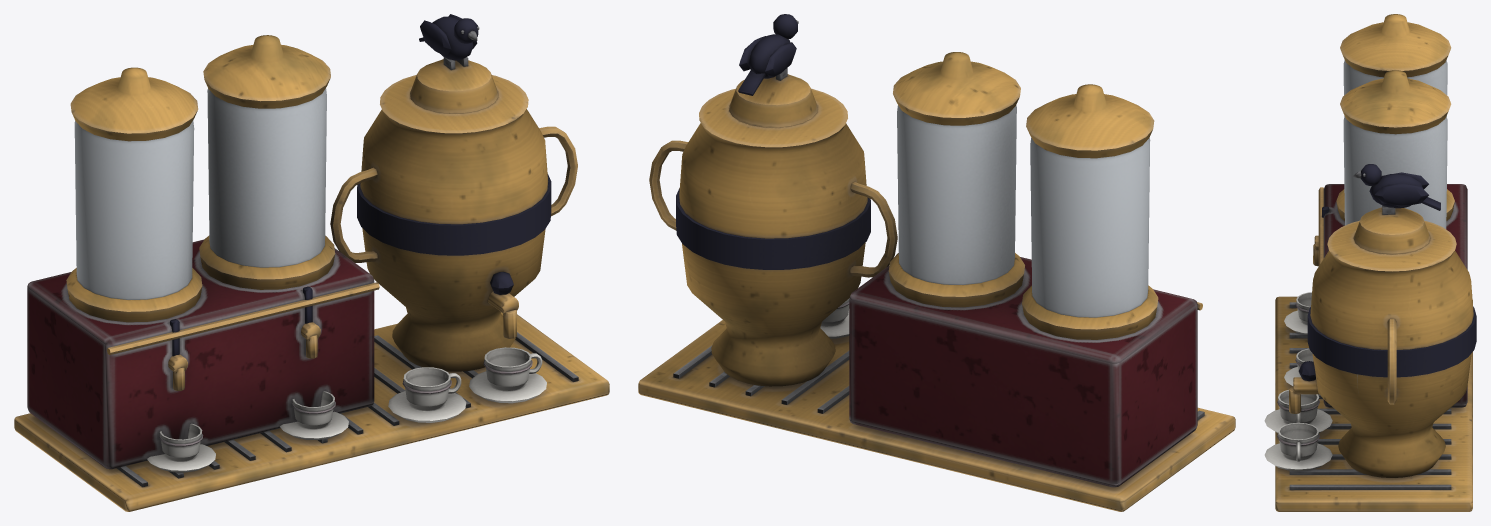
The model's file is DrinksDispenser.fbx.
3 renders of one model, left to right at view 1: azimuth 30°, elevation 25°; view 2: azimuth 150°, elevation 25°; view 3: azimuth 270°, elevation 25°, orthographic. The views are drawn at different scales.
Parts seen in each view (by area): view 1: DrinksDispenser_Main, DrinksDispenser_Glass; view 2: DrinksDispenser_Main, DrinksDispenser_Glass; view 3: DrinksDispenser_Main, DrinksDispenser_Glass.
Part boxes in pixels (x1,y1,x2,y2): DrinksDispenser_Main: (14, 14, 609, 511); DrinksDispenser_Glass: (74, 88, 326, 299); DrinksDispenser_Main: (638, 14, 1235, 511); DrinksDispenser_Glass: (897, 105, 1150, 317); DrinksDispenser_Main: (1264, 14, 1476, 511); DrinksDispenser_Glass: (1343, 60, 1447, 228).
Bounding box in the file's own units: 288 × 200 × 118.
